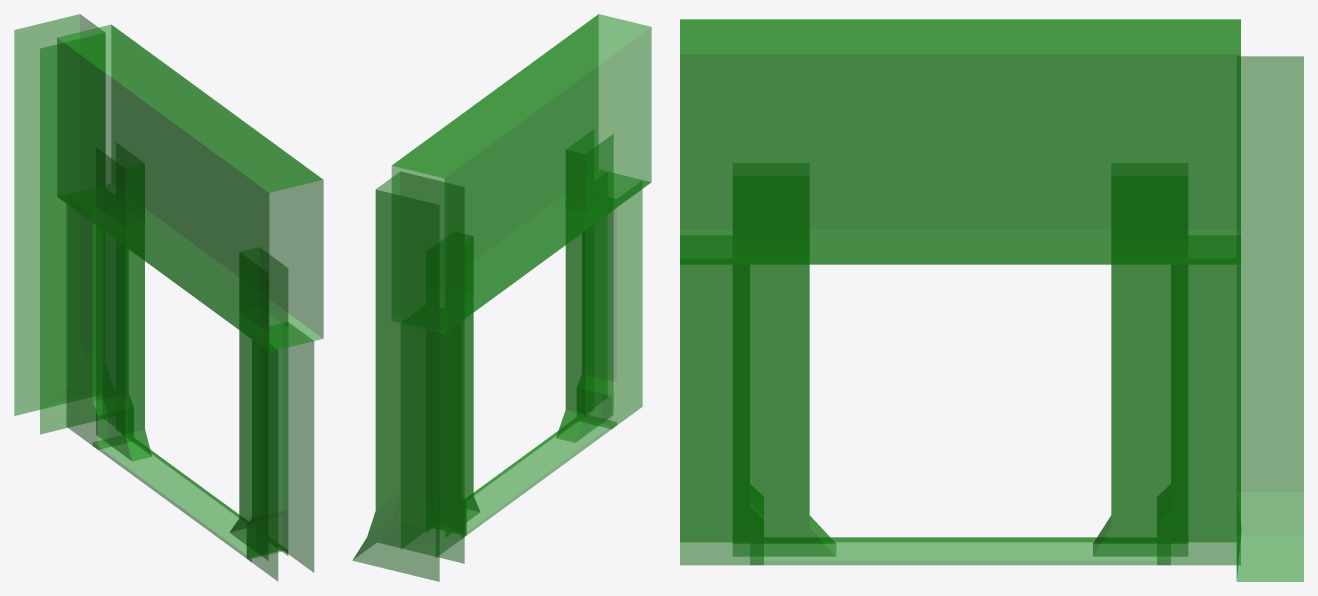
File: Wall_7.obj
3 views of the same model, side by side, from view 1: azimuth 30°, elevation 25°; view 2: azimuth 150°, elevation 25°; view 3: azimuth 270°, elevation 25° (orthographic). The views are drawn at different scales.
Bounding box in the file's own units: 1.95 × 8.15 × 8.91.
